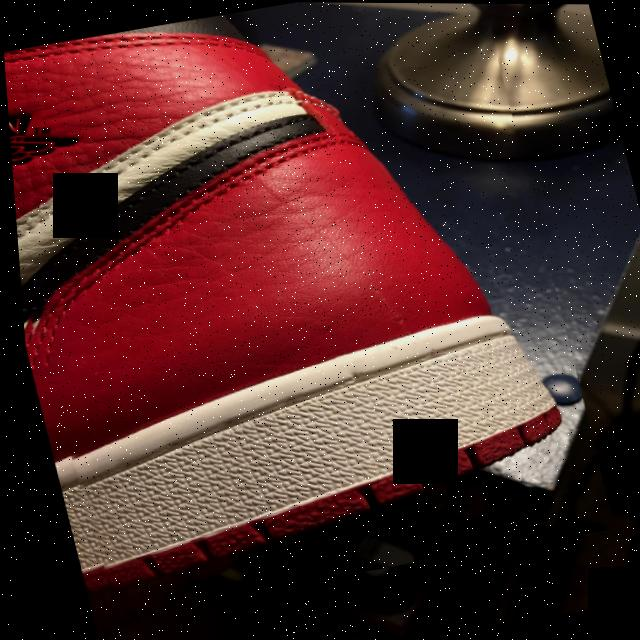shoe: (0, 0, 612, 619)
